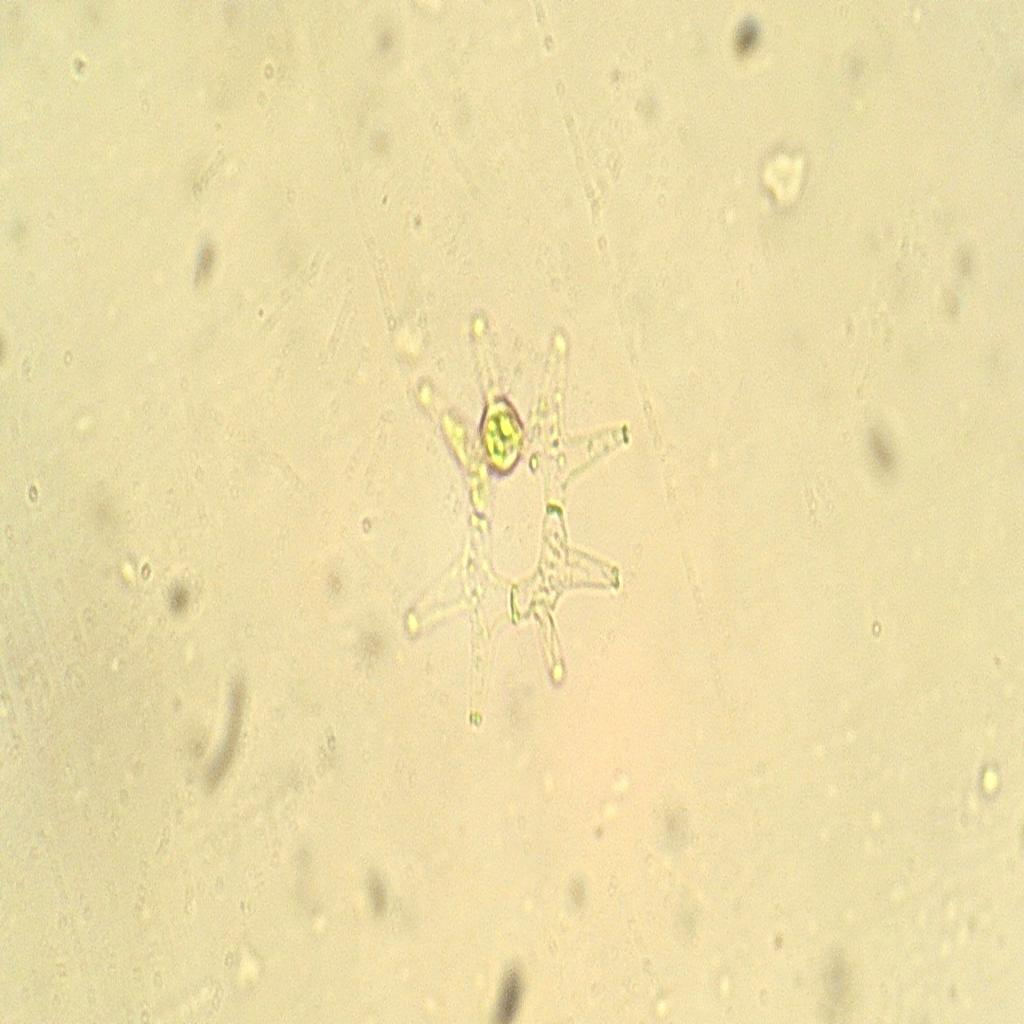Pediastrum_75TH: (399, 298, 639, 733)
